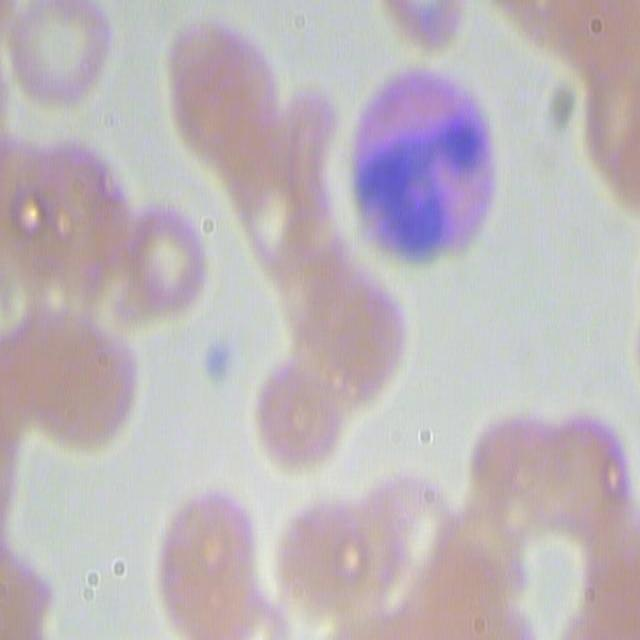RBC: (505, 416, 637, 640), (285, 505, 497, 640), (509, 7, 640, 216), (0, 130, 134, 294), (168, 11, 294, 169), (286, 249, 413, 398), (7, 316, 139, 453), (152, 487, 258, 638), (2, 1, 114, 116), (247, 354, 347, 476), (0, 536, 49, 638)
WBC: (346, 53, 501, 290)
platelets: (198, 333, 241, 395)
